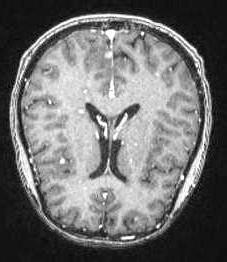Normal_Brain: (6, 11, 224, 262)
